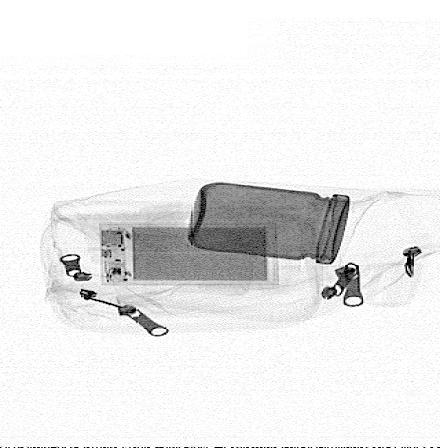Powerbank: (98, 222, 280, 286)
